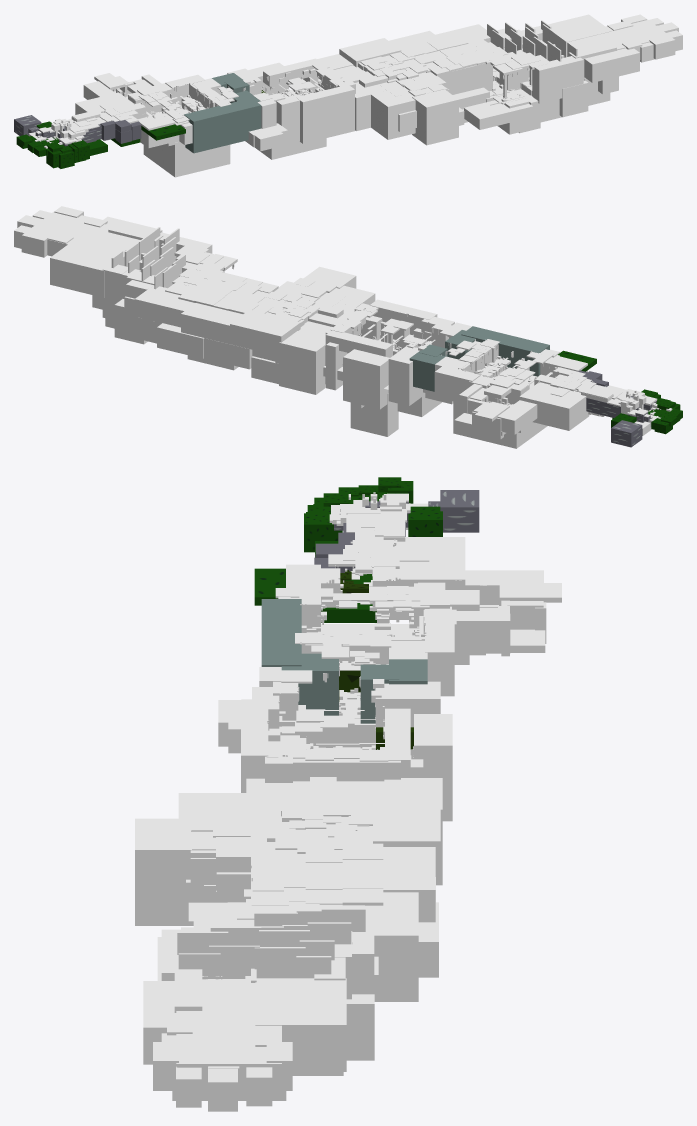
The model's file is CubesParentFinalLevel5.fbx.
The picture shows the model from 3 angles, top to bottom: view 1: azimuth 30°, elevation 25°; view 2: azimuth 150°, elevation 25°; view 3: azimuth 270°, elevation 25°; orthographic projection. The views are drawn at different scales.
Parts seen in each view (by area): view 1: Cube_Ref_Clone__2007, Cube_Ref_Clone__473, Cube_Ref_Clone__183, Cube_Ref_Clone__128; view 2: Cube_Ref_Clone__2007, Cube_Ref_Clone__183, Cube_Ref_Clone__473, Cube_Ref_Clone__128; view 3: Cube_Ref_Clone__2007, Cube_Ref_Clone__473, Cube_Ref_Clone__183, Cube_Ref_Clone__128.
Part boxes in pixels (x1,y1,x2,y2): Cube_Ref_Clone__2007: (243, 30, 533, 145); Cube_Ref_Clone__473: (435, 14, 682, 134); Cube_Ref_Clone__183: (75, 68, 326, 177); Cube_Ref_Clone__128: (14, 110, 107, 168); Cube_Ref_Clone__2007: (137, 266, 461, 436); Cube_Ref_Clone__183: (384, 322, 608, 448); Cube_Ref_Clone__473: (14, 206, 247, 344); Cube_Ref_Clone__128: (581, 384, 682, 447); Cube_Ref_Clone__2007: (135, 670, 452, 1001); Cube_Ref_Clone__473: (143, 873, 418, 1111); Cube_Ref_Clone__183: (218, 529, 561, 756); Cube_Ref_Clone__128: (304, 477, 479, 568).
Bounding box in the file's own units: 67582 × 8265 × 20403.
Materials: 30 (5 with a texture image).
